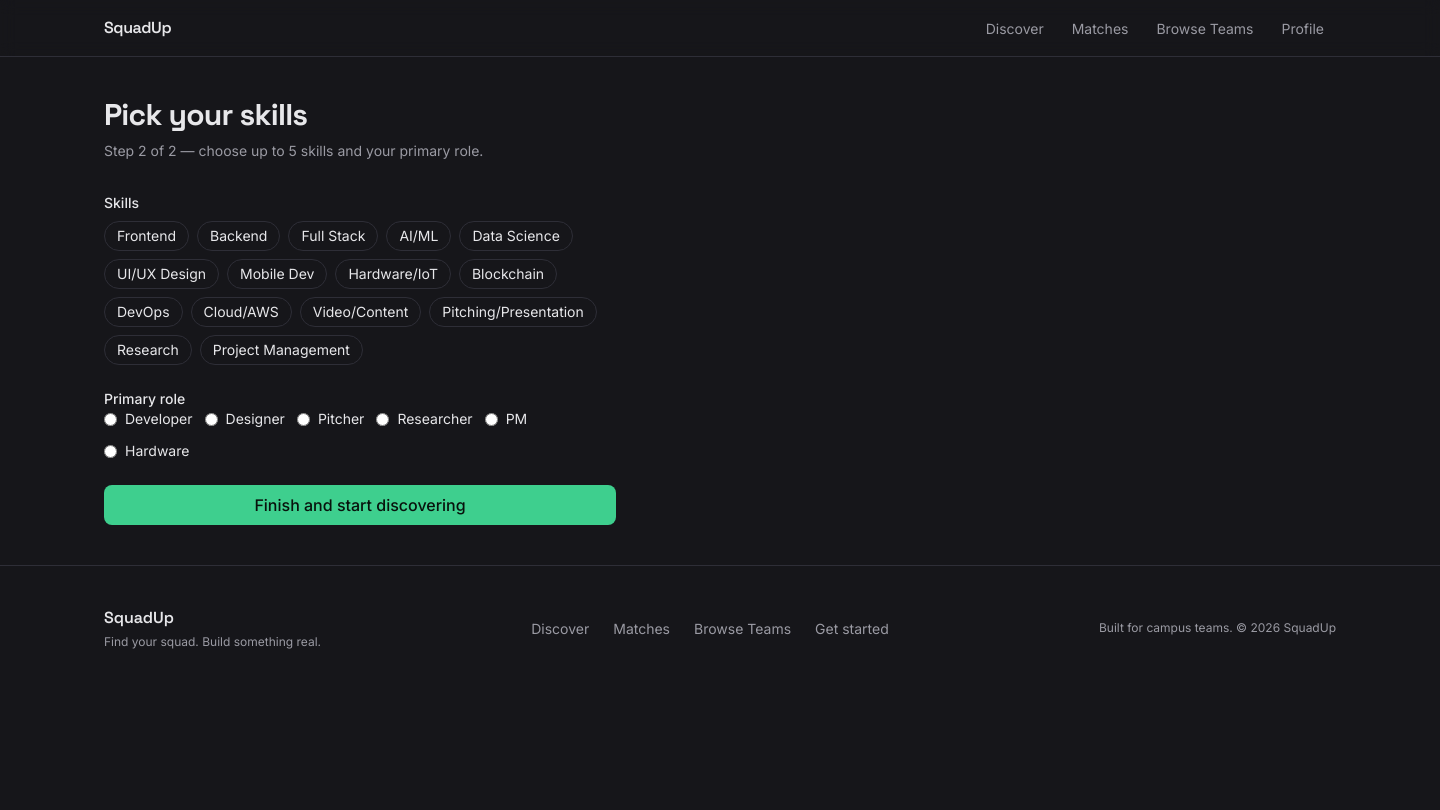
onboarding skills page › shows an error and does not save with no skills selected
Click the button "Finish and start discovering" at (360, 505), box [104,485,616,525]
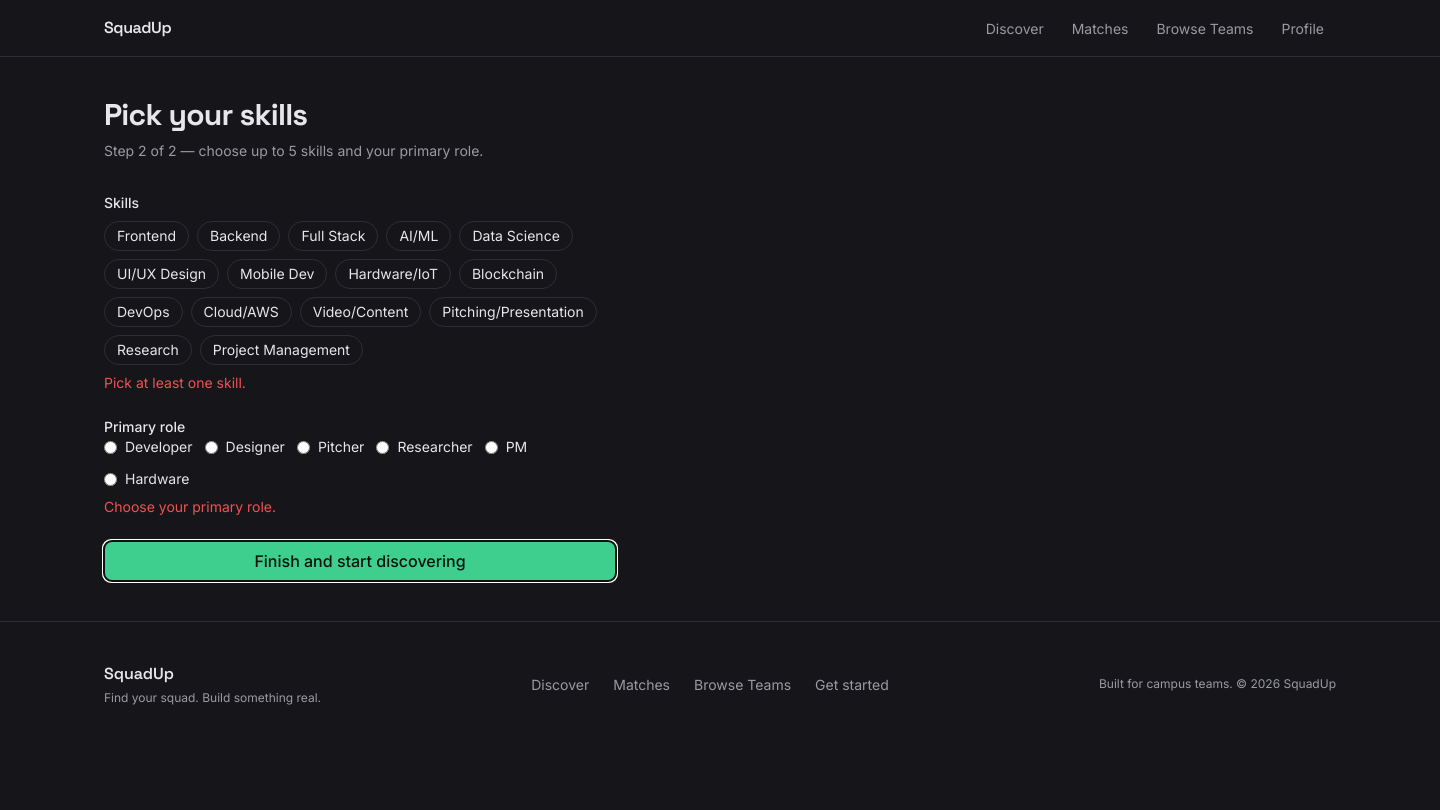
Check: the text "Pick at least one skill." is shown, box [104,374,246,391]
